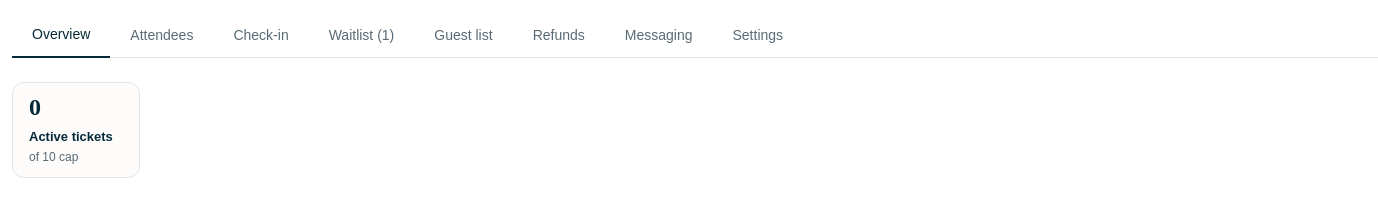
Test: ManageEventTabs — Waitlist tab: Offer / Resend › states the reason and offers no Fix when the entry cannot be repaired
Click the button "Waitlist (1)" at (362, 34), box [309,12,414,57]
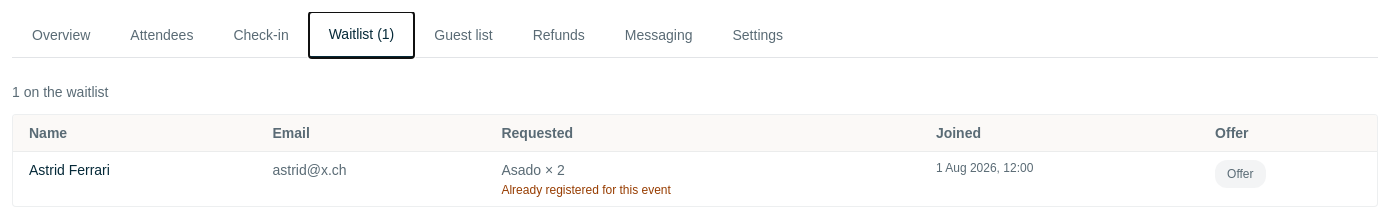
Expected: the text "Already registered for this event" is shown, [501,183,671,197]
